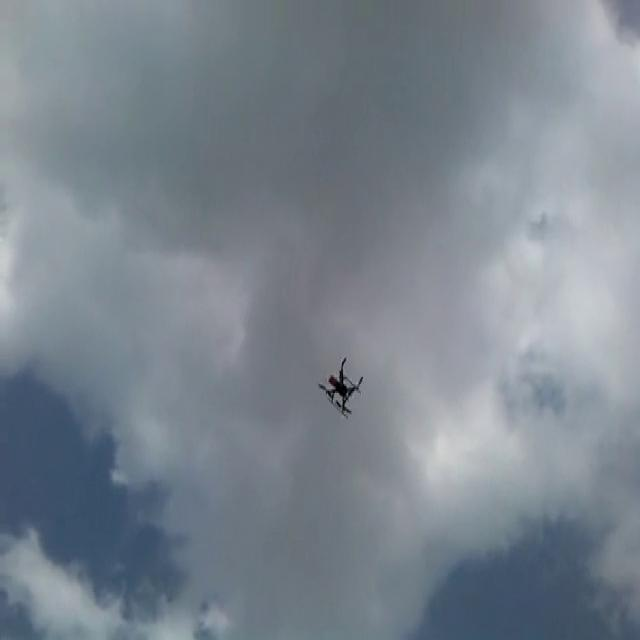drone: (315, 350, 367, 418)
